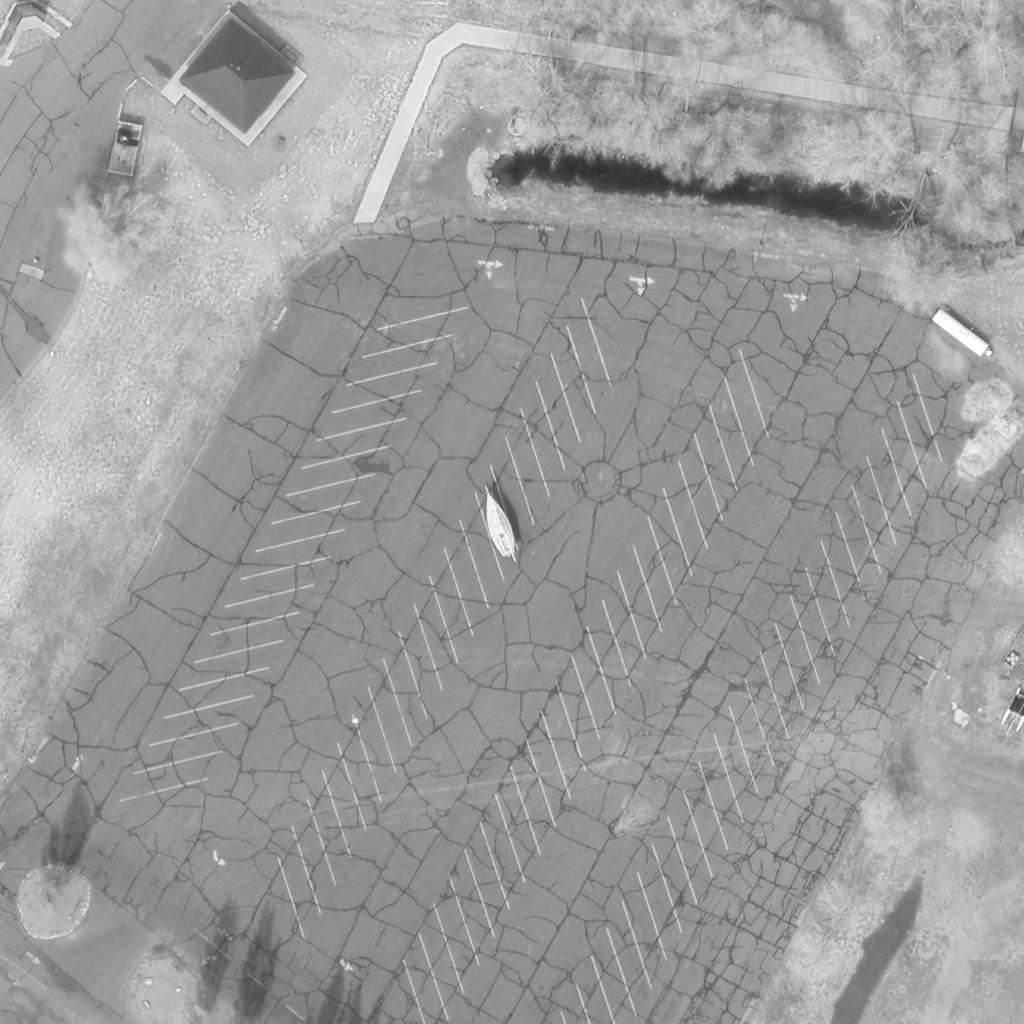vehicle: (478, 490, 520, 558)
